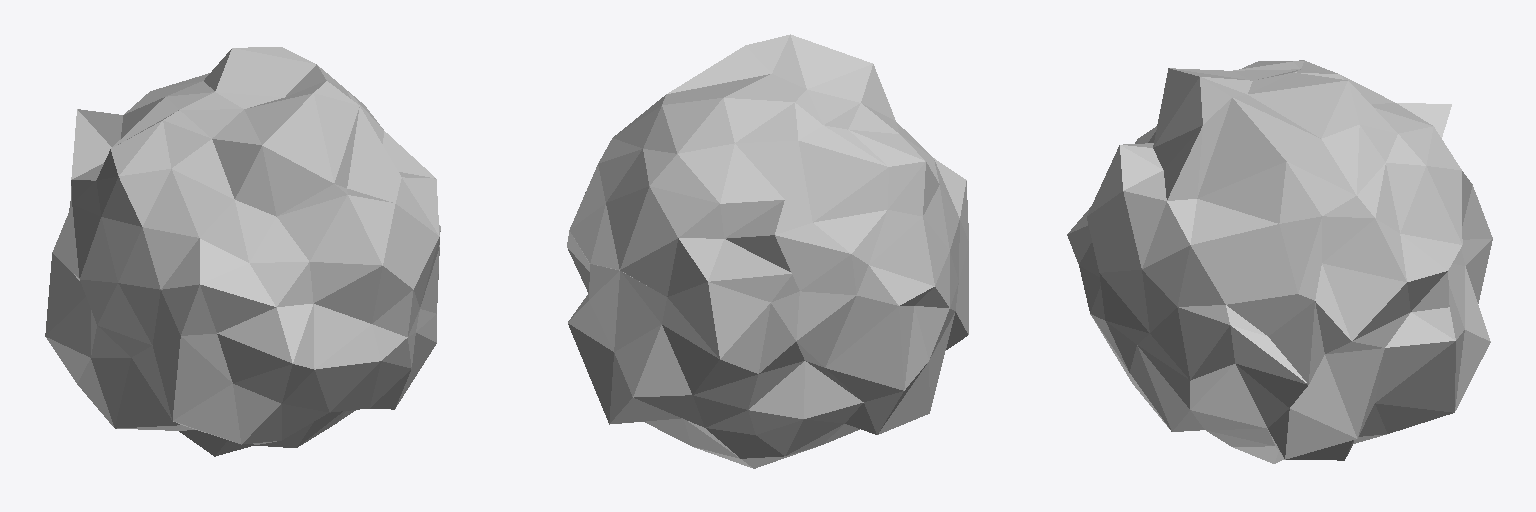
The model's file is fire_000013.obj.
3 views of the same model, side by side, from view 1: azimuth 30°, elevation 25°; view 2: azimuth 150°, elevation 25°; view 3: azimuth 270°, elevation 25° (orthographic).
Visible parts, largest first — view 1: Icosphere; view 2: Icosphere; view 3: Icosphere.
Part boxes in pixels (x1,y1,x2,y2): Icosphere: (45, 47, 440, 456); Icosphere: (567, 34, 968, 468); Icosphere: (1067, 60, 1492, 463).
Bounding box in the file's own units: 1.52 × 1.57 × 1.61.